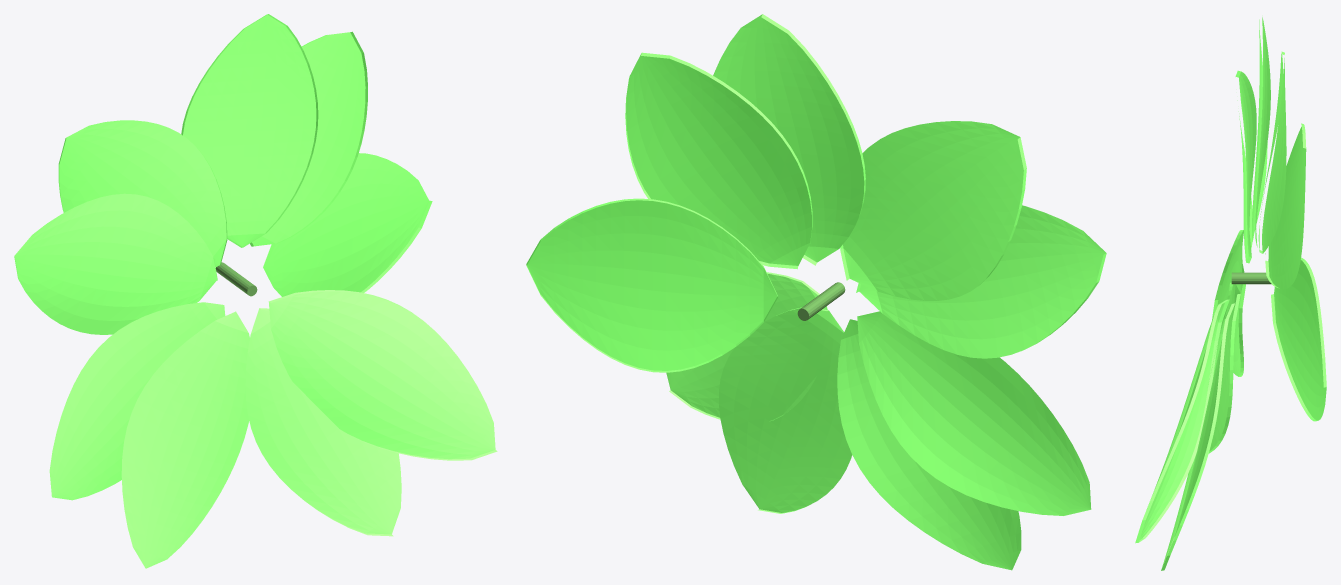
The model's file is vegetative.glb.
3 views of the same model, side by side, from view 1: azimuth 30°, elevation 25°; view 2: azimuth 150°, elevation 25°; view 3: azimuth 270°, elevation 25° (orthographic). The views are drawn at different scales.
Visible parts, largest first — view 1: world; view 2: world; view 3: world.
Part boxes in pixels (bbox=[...]): world: bbox=[14, 14, 497, 568]; world: bbox=[526, 14, 1106, 570]; world: bbox=[1135, 17, 1326, 570].
Size of the model in its own units: 5.03 by 5.13 by 1.83.
